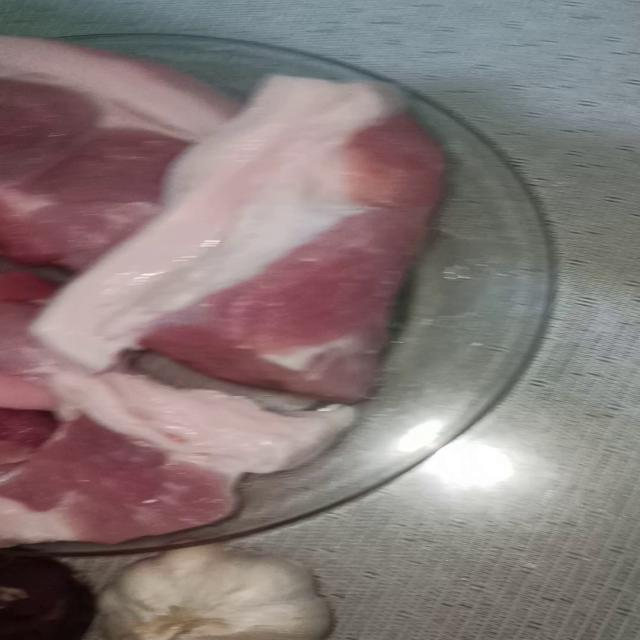garlic: (68, 528, 421, 640)
pork: (113, 87, 462, 398), (0, 317, 305, 573), (0, 14, 196, 259), (0, 263, 166, 427)
